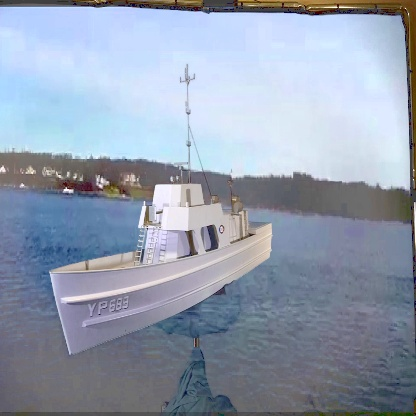YP689: (49, 68, 274, 357)
